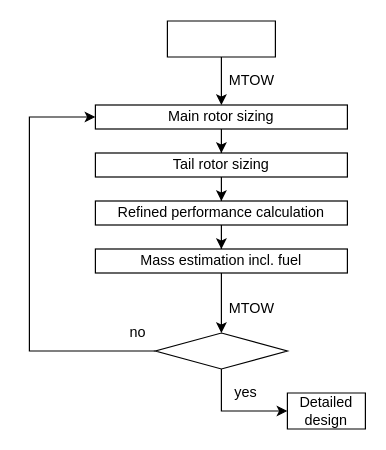
Image size: 386x450. Some labels were removed from this diagram. Here are the shapes that lost their labels. From the top down, the box of each, then its label:
(166, 20, 275, 57): Determine initial MTOW
(154, 332, 287, 369): converged?
